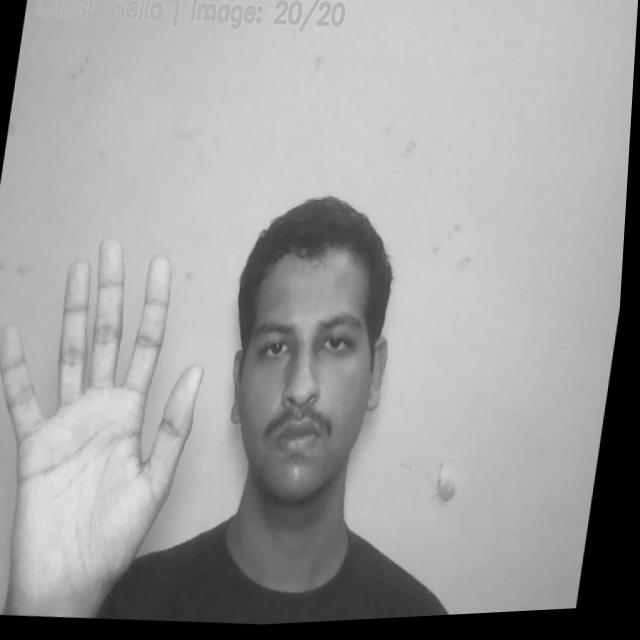Hello: (0, 225, 232, 631)
